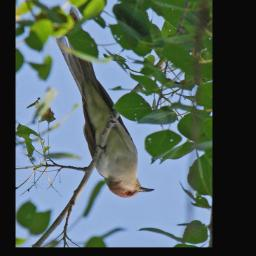Cuckoo: (52, 5, 155, 199)
